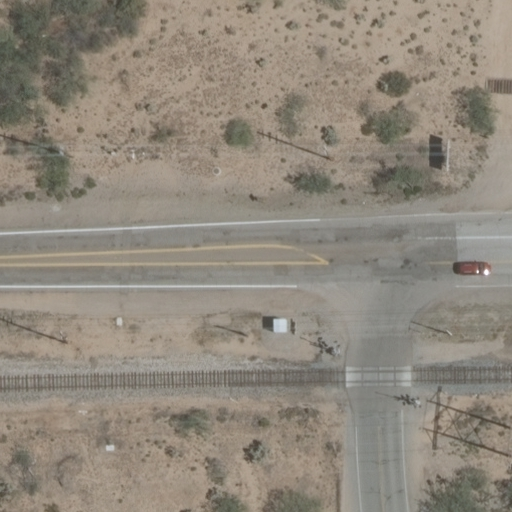DT: (52, 328, 83, 352), (45, 142, 72, 163), (316, 138, 336, 164), (438, 323, 455, 341)
TT: (415, 390, 510, 461)
